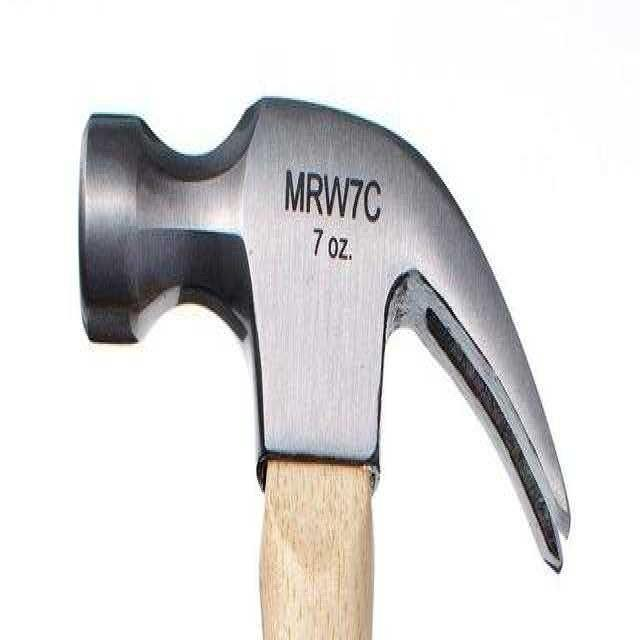hammer: (79, 97, 571, 640)
